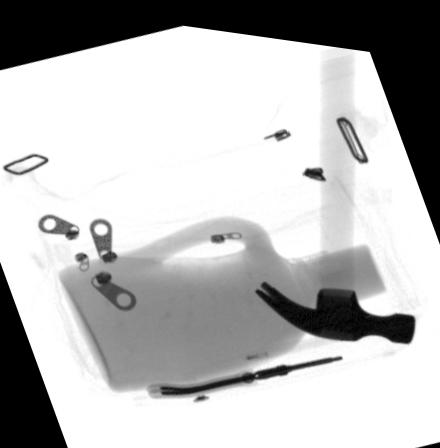Hammer: (253, 36, 415, 332)
Pliers: (144, 346, 338, 395)
